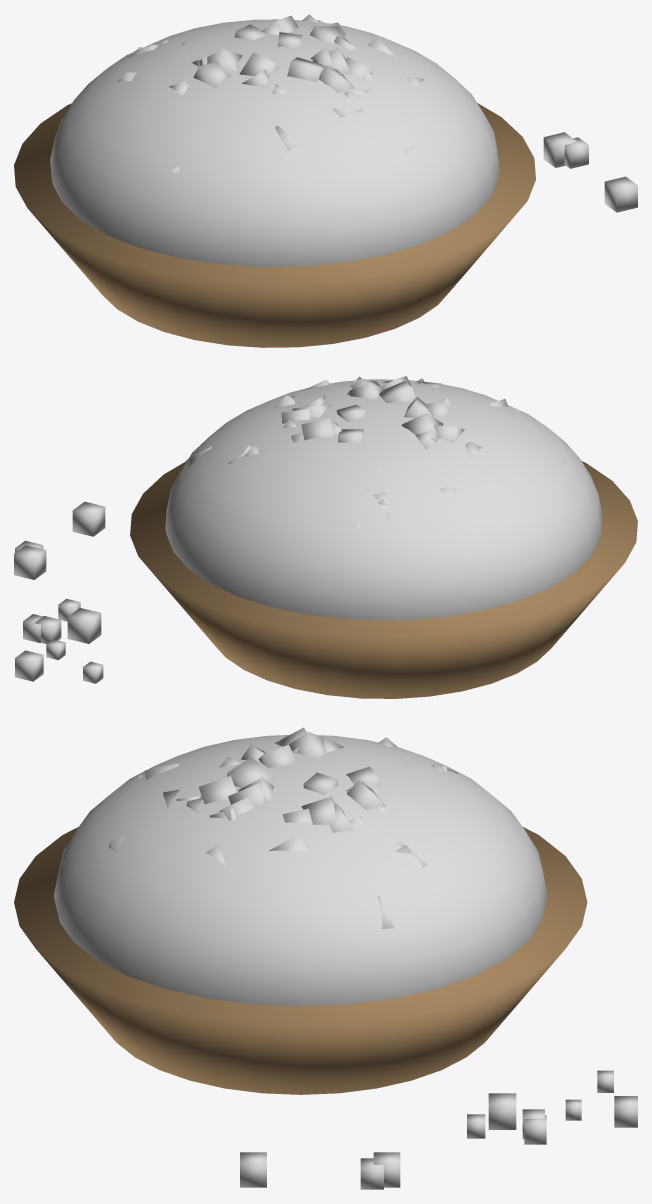
Rendered from salt.glb.
3 views of the same model, one above another, from view 1: azimuth 30°, elevation 25°; view 2: azimuth 150°, elevation 25°; view 3: azimuth 270°, elevation 25° (orthographic). The views are drawn at different scales.
Visible parts, largest first — view 1: s9; view 2: s9; view 3: s9.
Boxes of the visible parts, x1,y1,x2,y2 form: s9: (14, 14, 637, 347); s9: (14, 376, 637, 698); s9: (14, 727, 637, 1189).
Bounding box in the file's own units: 0.2 × 0.0803 × 0.1736.
